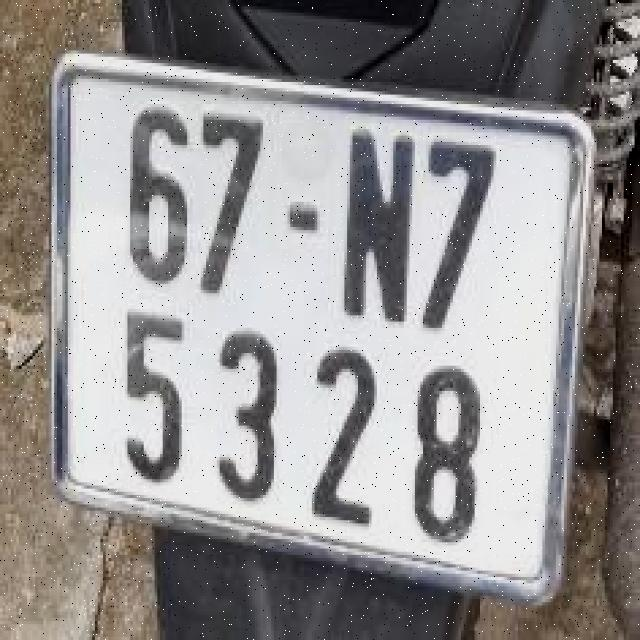2: (300, 336, 381, 538)
3: (203, 317, 282, 506)
5: (120, 298, 186, 503)
6: (122, 98, 193, 300)
7: (422, 136, 500, 334), (192, 98, 264, 300)
8: (407, 350, 485, 555)
N: (342, 117, 418, 334)
